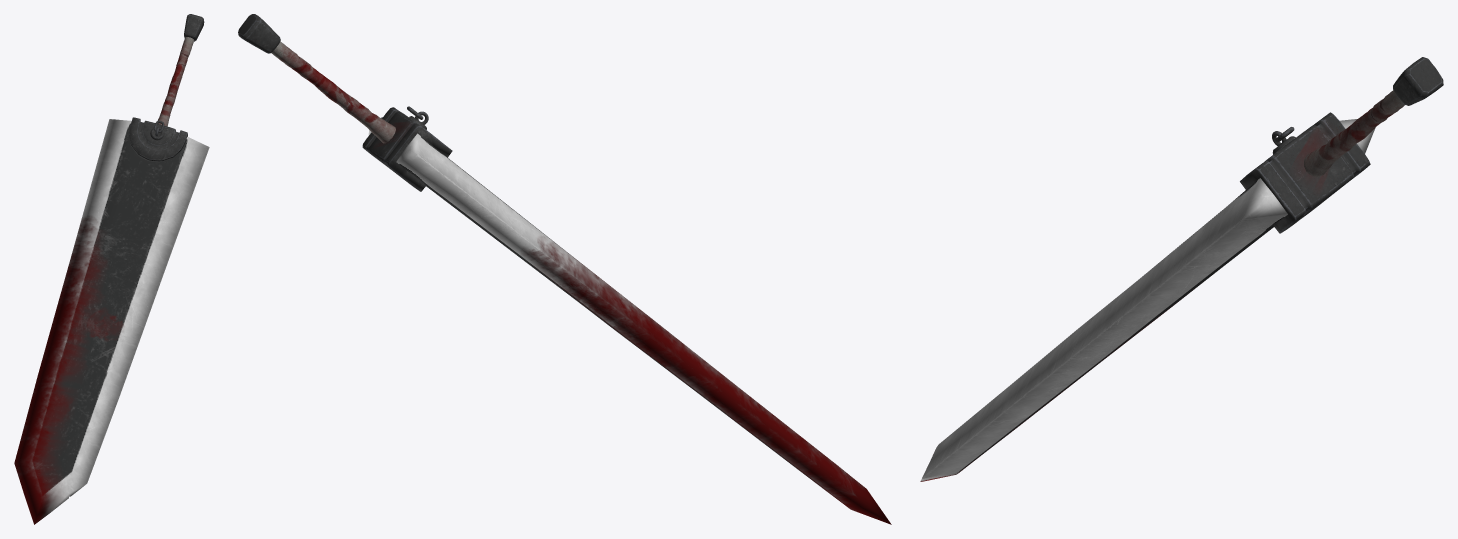
The model's file is dragon_slayer_bloodstained.glb.
The picture shows the model from 3 angles, left to right: view 1: azimuth 30°, elevation 25°; view 2: azimuth 150°, elevation 25°; view 3: azimuth 270°, elevation 25°; orthographic projection. The views are drawn at different scales.
Visible parts, largest first — view 1: Object_2; view 2: Object_2; view 3: Object_2.
Part boxes in pixels (x1,y1,x2,y2): Object_2: (14,14,209,524); Object_2: (238,14,891,524); Object_2: (920,57,1443,481).
Bounding box in the file's own units: 15.76 × 17.86 × 12.11.
Materials: 1 (1 with a texture image).
